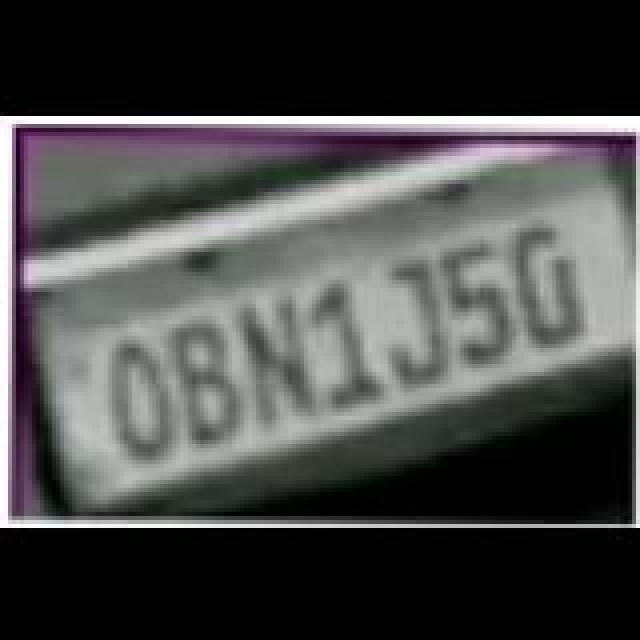1: (310, 280, 386, 408)
5: (442, 240, 518, 368)
B: (168, 320, 248, 448)
D: (512, 222, 592, 346)
J: (380, 260, 452, 388)
N: (238, 290, 322, 422)
O: (106, 336, 182, 464)
